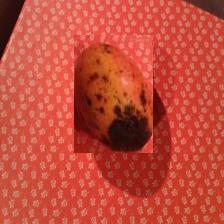Mango Semirotten: (75, 35, 154, 153)
